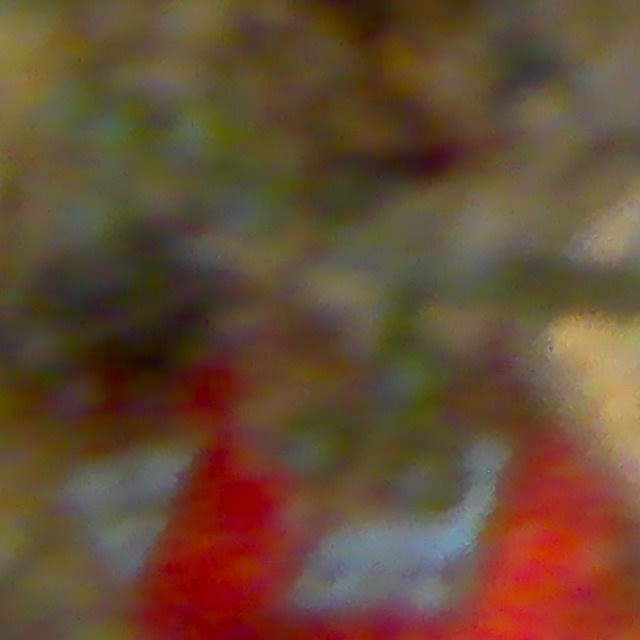SeaGrape: (279, 414, 351, 487), (374, 346, 446, 414), (10, 313, 76, 381), (58, 369, 108, 419)
